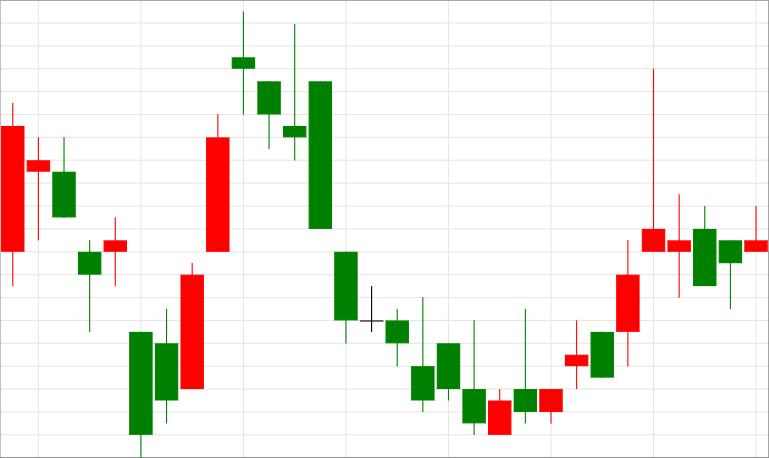inverse_hammer_rise: (233, 13, 434, 412)
shooting_star_fall: (540, 70, 665, 422)
